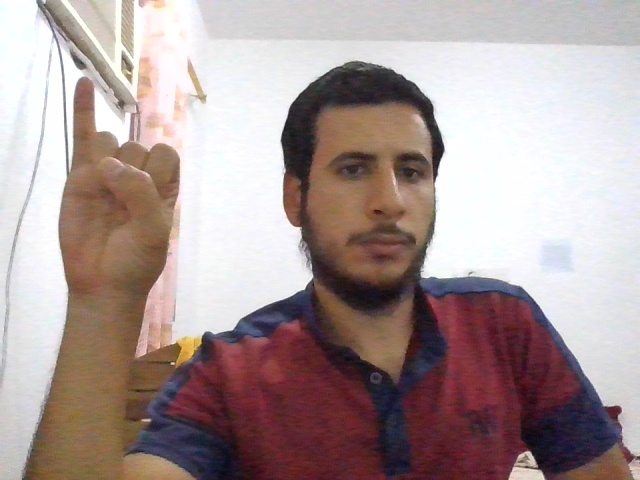One: (58, 78, 181, 291)
